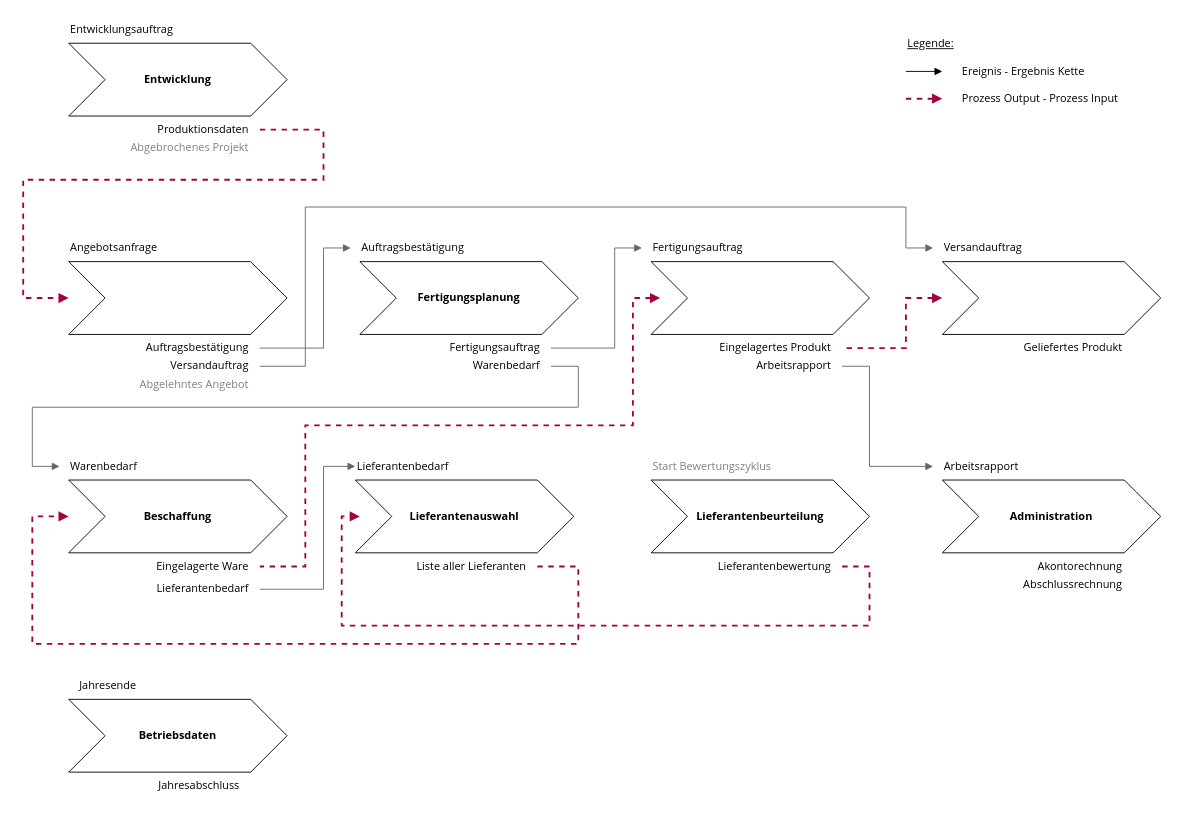
Image size: 1177x814. Some labels were removed from this diagram. Each missing label, with the centre of its shape:
"Fertigung" belongs at point 760,297.
"Kundenanfrage" belongs at point 177,297.
"Versand" belongs at point 1051,297.
